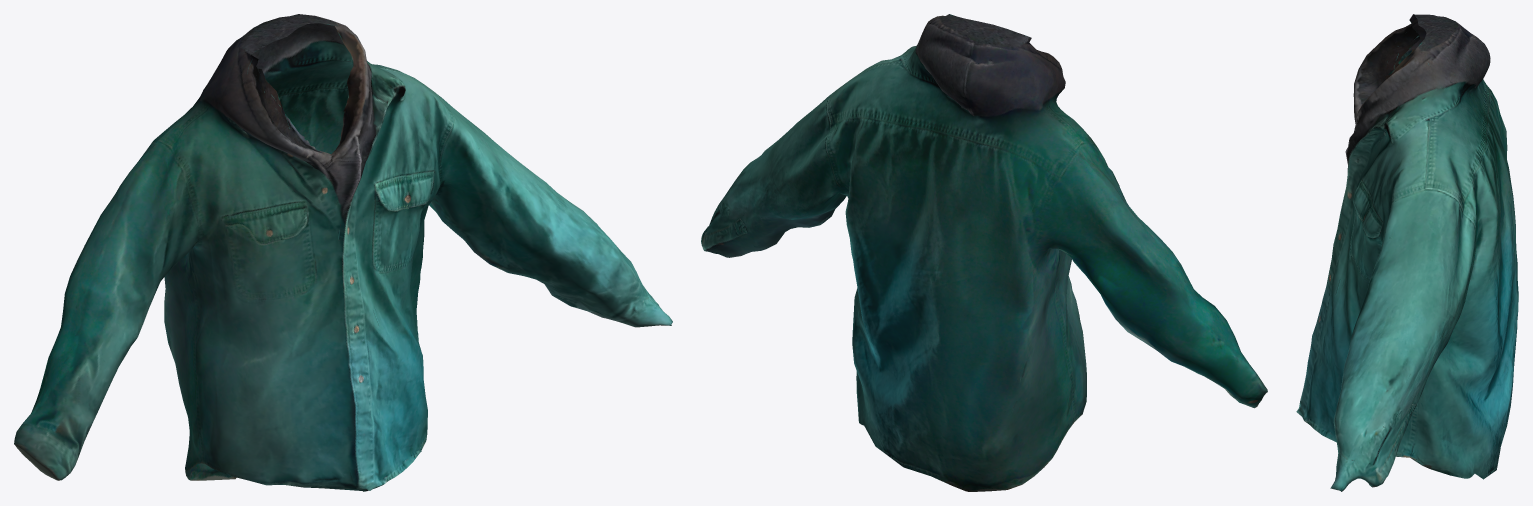
Rendered from green_shirt_hood_scan_medpoly.glb.
The picture shows the model from 3 angles, left to right: view 1: azimuth 30°, elevation 25°; view 2: azimuth 150°, elevation 25°; view 3: azimuth 270°, elevation 25°; orthographic projection. The views are drawn at different scales.
Parts seen in each view (by area): view 1: GreenandHoodie; view 2: GreenandHoodie; view 3: GreenandHoodie.
Boxes of the visible parts, bbox=[...] form: GreenandHoodie: bbox=[14, 14, 672, 491]; GreenandHoodie: bbox=[701, 14, 1267, 491]; GreenandHoodie: bbox=[1296, 14, 1518, 491].
Bounding box in the file's own units: 0.8753 × 0.63 × 0.2915.
1 material, 1 textured.
